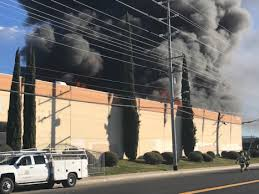smoke: (22, 1, 252, 115)
